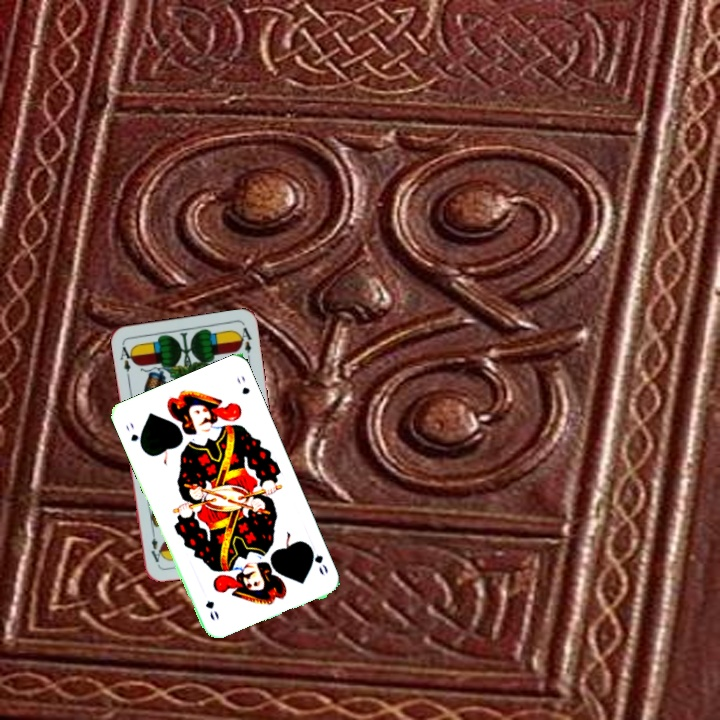EA: (116, 340, 136, 380)
GO: (121, 418, 146, 453), (306, 543, 331, 578)
